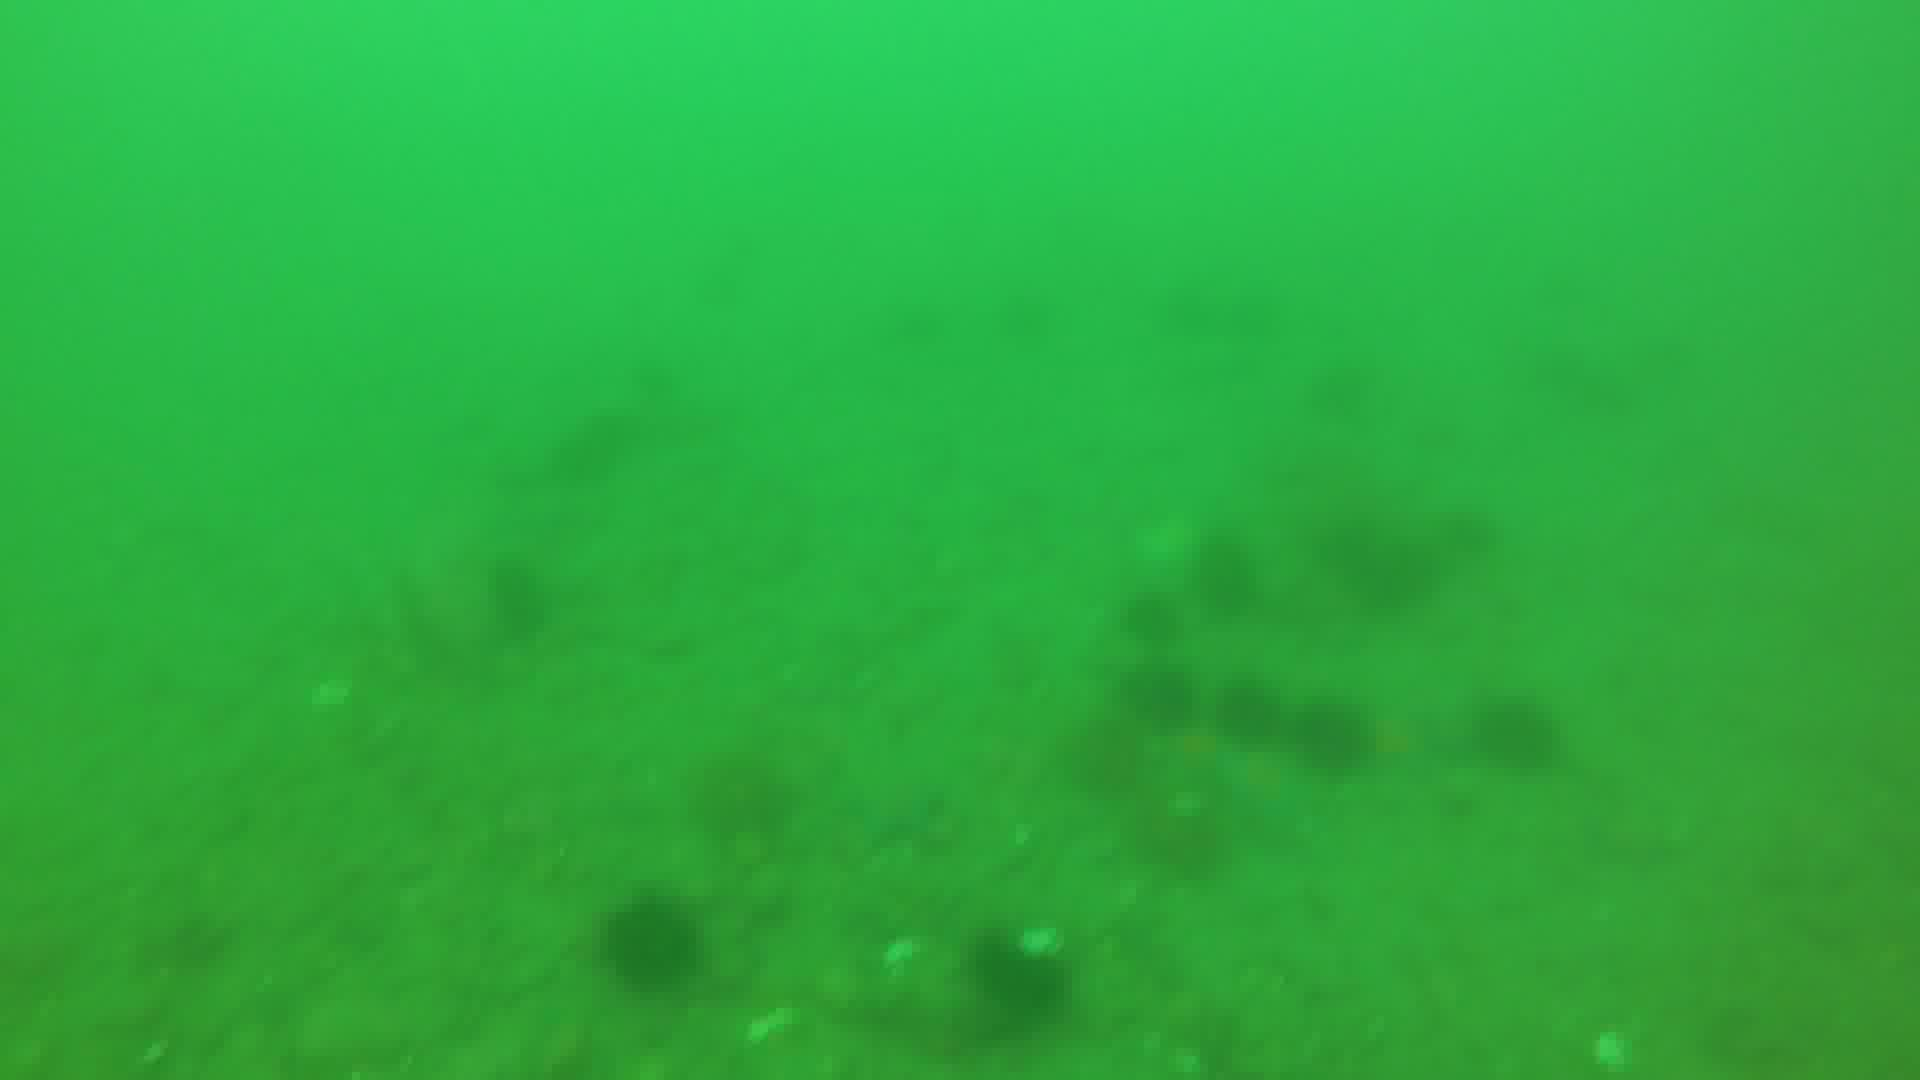echinus: (1333, 502, 1433, 615), (593, 899, 704, 993), (965, 918, 1069, 1011), (1292, 684, 1371, 775), (1216, 665, 1292, 741), (1481, 688, 1547, 767), (1187, 537, 1259, 605), (1124, 663, 1196, 723), (1124, 587, 1172, 647)
scallop: (1588, 1031, 1636, 1075), (742, 1011, 806, 1036), (1015, 924, 1064, 955), (880, 943, 926, 967)
